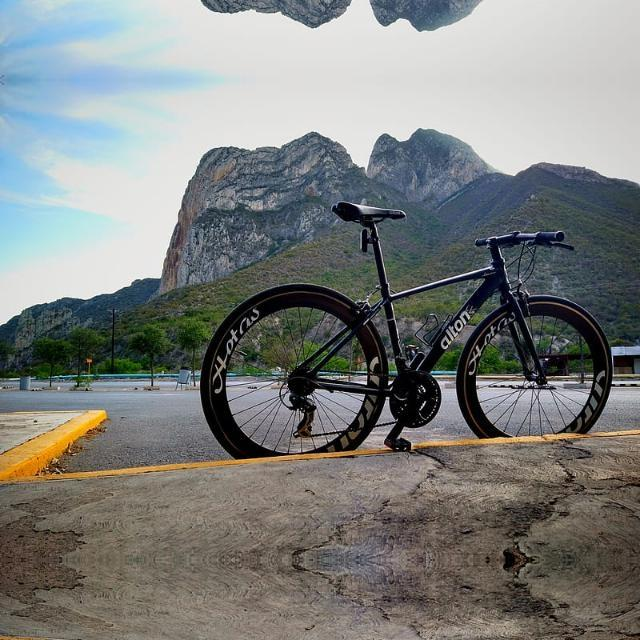obstacle: (182, 182, 612, 450)
